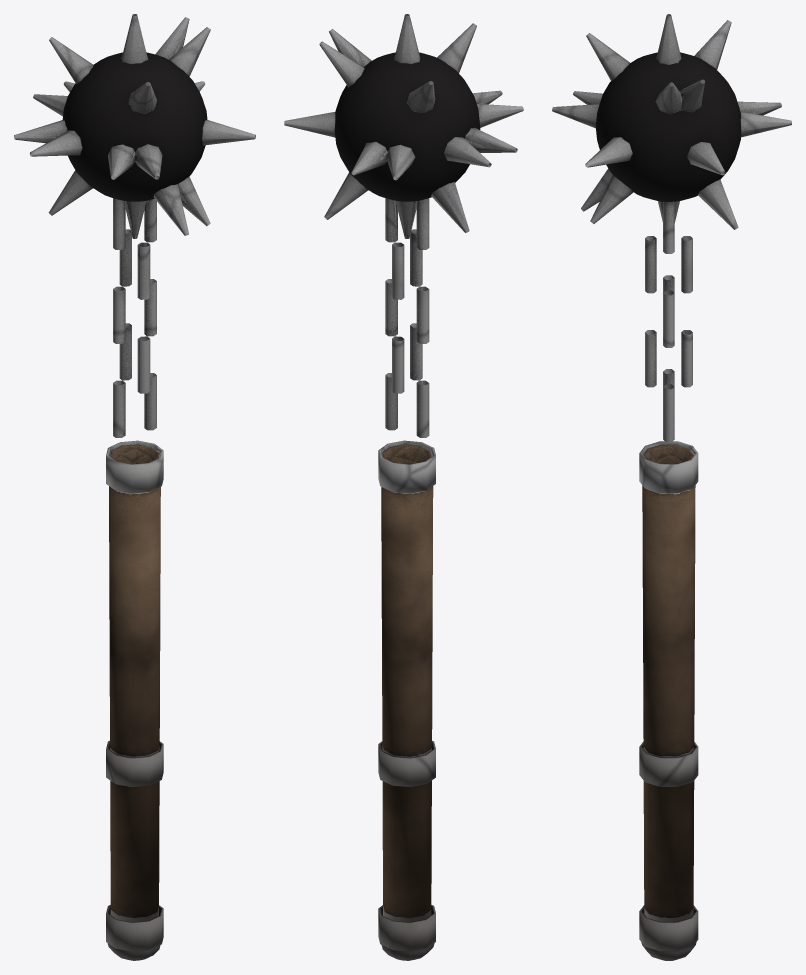
The model's file is morningstar.fbx.
The picture shows the model from 3 angles, left to right: view 1: azimuth 30°, elevation 25°; view 2: azimuth 150°, elevation 25°; view 3: azimuth 270°, elevation 25°; orthographic projection.
Visible parts, largest first — view 1: morningstar; view 2: morningstar; view 3: morningstar.
Part boxes in pixels (box(x1,y1,x2,y2)): morningstar: box(14, 14, 255, 960); morningstar: box(284, 14, 523, 960); morningstar: box(552, 14, 791, 960).
Size of the model in its own units: 0.1811 by 0.8029 by 0.1851.
